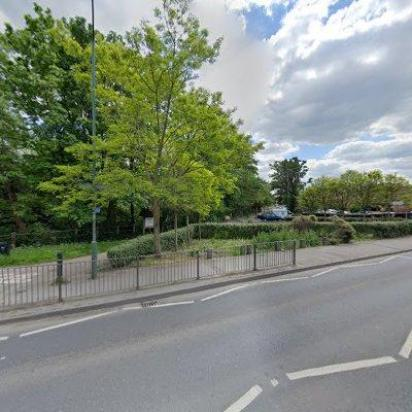stationary-car-offstreet: (261, 211, 283, 223)
